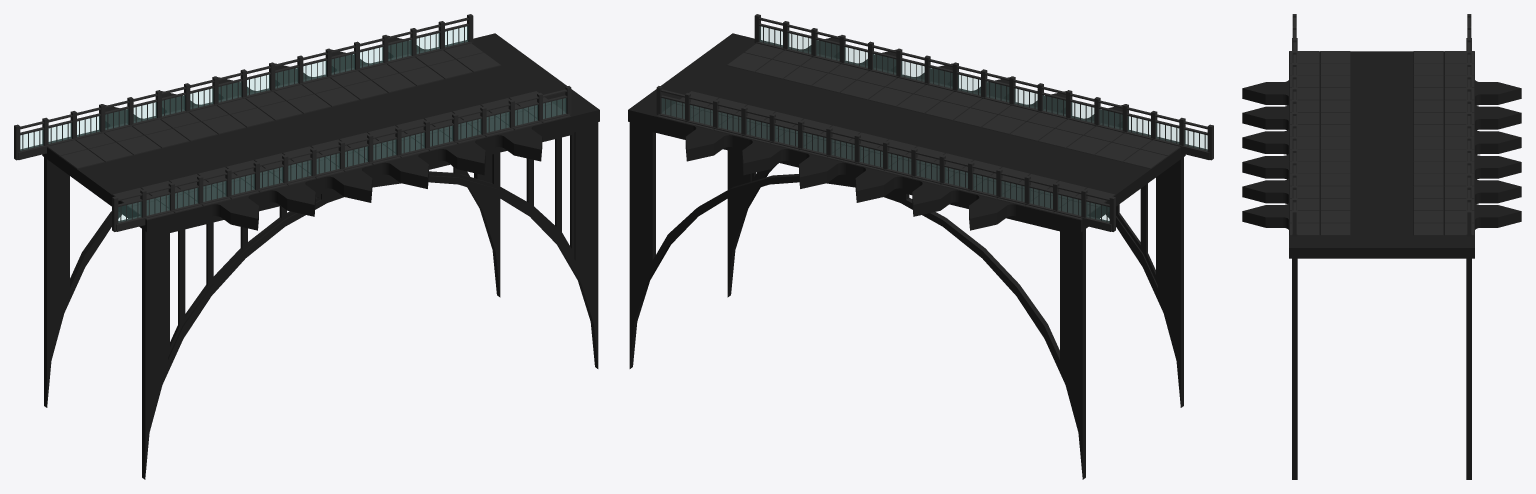
File: Bridge.fbx
The picture shows the model from 3 angles, left to right: view 1: azimuth 30°, elevation 25°; view 2: azimuth 150°, elevation 25°; view 3: azimuth 270°, elevation 25°; orthographic projection. The views are drawn at different scales.
Visible parts, largest first — view 1: Plane.458, Plane.445, Circle.088, Plane.444, Plane.466, Circle.092; view 2: Plane.458, Plane.445, Circle.088, Plane.444, Plane.466, Circle.092; view 3: Plane.445, Plane.444, Plane.466, Circle.088, Plane.458.
Boxes of the visible parts, x1=… form: Plane.458: x1=14, y1=14, x2=571, y2=231; Plane.445: x1=47, y1=40, x2=571, y2=220; Circle.088: x1=44, y1=122, x2=598, y2=479; Plane.444: x1=42, y1=33, x2=599, y2=231; Plane.466: x1=101, y1=35, x2=542, y2=230; Circle.092: x1=168, y1=132, x2=574, y2=357; Plane.458: x1=656, y1=14, x2=1213, y2=231; Plane.445: x1=656, y1=40, x2=1180, y2=220; Circle.088: x1=629, y1=122, x2=1183, y2=479; Plane.444: x1=628, y1=33, x2=1185, y2=231; Plane.466: x1=685, y1=35, x2=1126, y2=230; Circle.092: x1=751, y1=171, x2=1157, y2=285; Plane.445: x1=1289, y1=51, x2=1474, y2=235; Plane.444: x1=1289, y1=51, x2=1474, y2=258; Plane.466: x1=1242, y1=80, x2=1521, y2=229; Circle.088: x1=1292, y1=258, x2=1471, y2=479; Plane.458: x1=1292, y1=14, x2=1471, y2=236.
Bounding box in the file's own units: 42.68 × 24.3 × 24.
